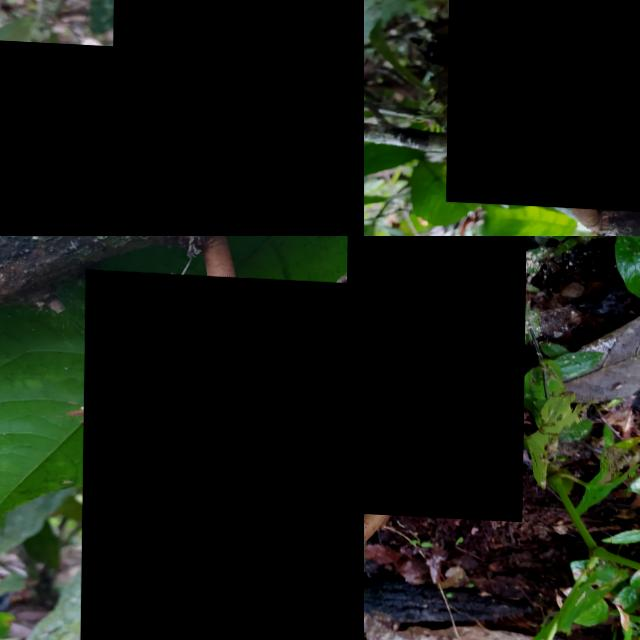Monilia: (364, 236, 527, 517), (447, 0, 640, 210), (0, 33, 130, 236)
Sana: (81, 268, 364, 640), (109, 0, 364, 236)
